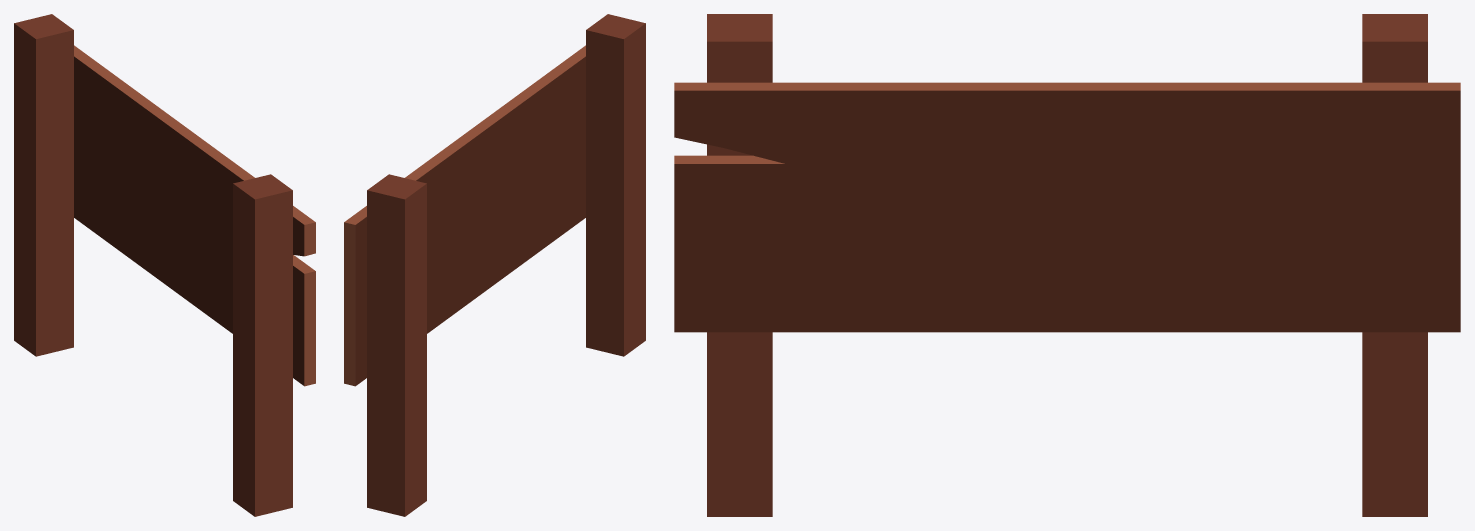
The model's file is SM_Barriers_05.fbx.
3 renders of one model, left to right at view 1: azimuth 30°, elevation 25°; view 2: azimuth 150°, elevation 25°; view 3: azimuth 270°, elevation 25°, orthographic. The views are drawn at different scales.
Visible parts, largest first — view 1: SM_Barriers_05; view 2: SM_Barriers_05; view 3: SM_Barriers_05.
Part boxes in pixels (<box>): SM_Barriers_05: <box>14,14,315,516</box>; SM_Barriers_05: <box>344,14,645,516</box>; SM_Barriers_05: <box>674,14,1460,516</box>.
Size of the model in its own units: 13.18 by 80 by 120.
